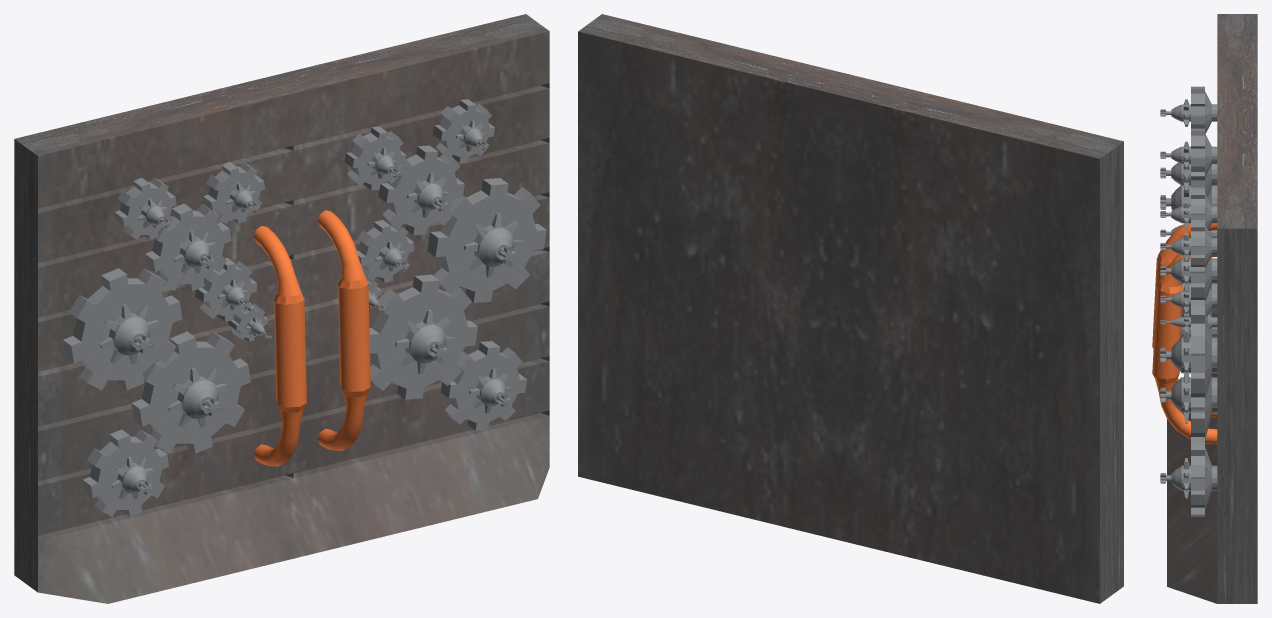
The model's file is Doors.fbx.
The picture shows the model from 3 angles, left to right: view 1: azimuth 30°, elevation 25°; view 2: azimuth 150°, elevation 25°; view 3: azimuth 270°, elevation 25°; orthographic projection. The views are drawn at different scales.
Parts seen in each view (by area): view 1: Door_L, Door_R; view 2: Door_L, Door_R; view 3: Door_R, Door_L.
Boxes of the visible parts, box(x1,y1,x2,y2) form: Door_L: box(14, 76, 322, 603); Door_R: box(270, 14, 549, 551); Door_L: box(839, 77, 1123, 603); Door_R: box(578, 14, 862, 540); Door_R: box(1152, 121, 1257, 603); Door_L: box(1152, 14, 1257, 495).
Bounding box in the file's own units: 494 × 403 × 103.
1 material, 1 textured.
